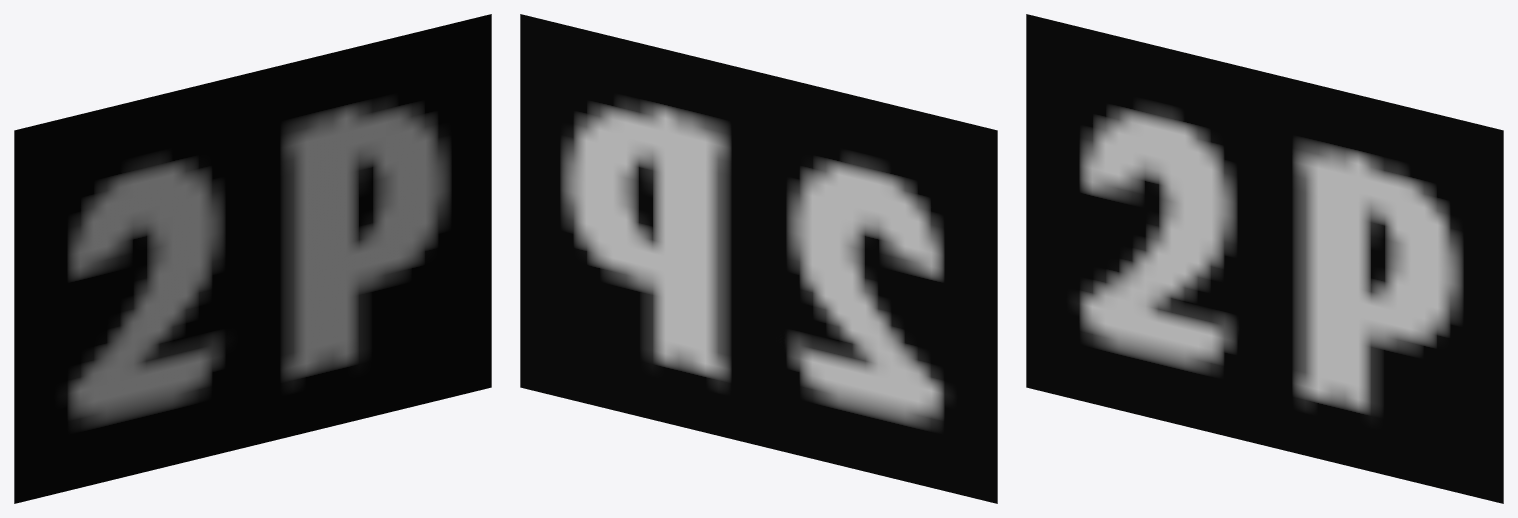
3 renders of one model, left to right at view 1: azimuth 30°, elevation 25°; view 2: azimuth 150°, elevation 25°; view 3: azimuth 330°, elevation 25°, orthographic.
Visible parts, largest first — view 1: Joint_0_Object_0; view 2: Joint_0_Object_0; view 3: Joint_0_Object_0.
Part boxes in pixels (box(x1,y1,x2,y2)): Joint_0_Object_0: box(14, 14, 491, 503); Joint_0_Object_0: box(520, 14, 997, 503); Joint_0_Object_0: box(1026, 14, 1503, 503).
Bounding box in the file's own units: 97.04 × 72.58 × 0.
1 material, 1 textured.
